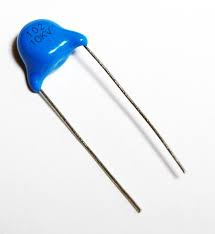ceramic capacitor: (4, 4, 133, 137)
